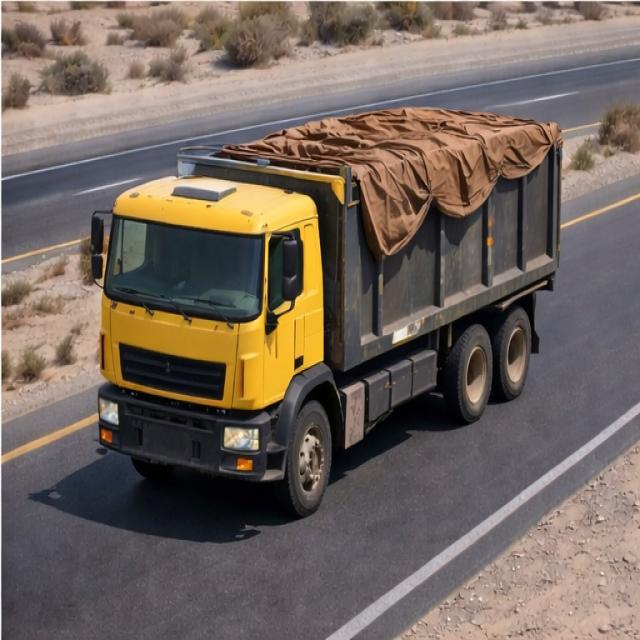Box: (177, 99, 565, 199)
Truck: (85, 87, 566, 514)
